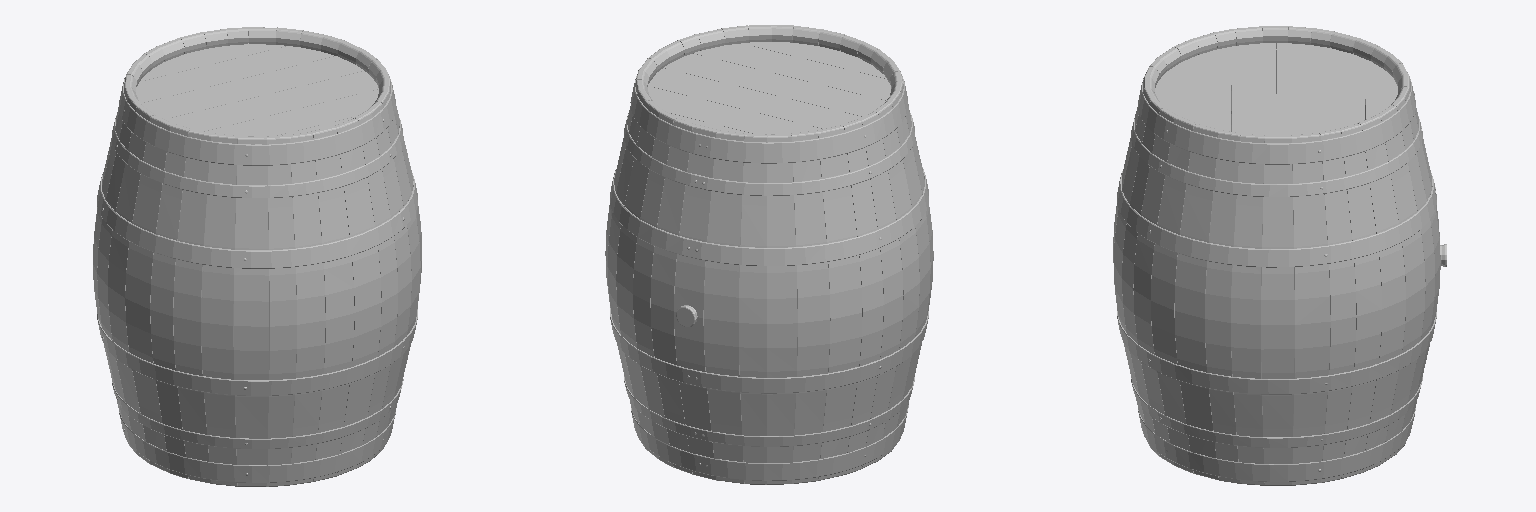
Rendered from barrel.obj.
3 views of the same model, side by side, from view 1: azimuth 30°, elevation 25°; view 2: azimuth 150°, elevation 25°; view 3: azimuth 270°, elevation 25° (orthographic).
Parts seen in each view (by area): view 1: wine_barrel_01_Plane.006, wine_barrel_01_Lid_DiameterSmall.012; view 2: wine_barrel_01_Plane.006, wine_barrel_01_Lid_DiameterSmall.012; view 3: wine_barrel_01_Plane.006, wine_barrel_01_Lid_DiameterSmall.012.
Boxes of the visible parts, <box> form: wine_barrel_01_Plane.006: <box>93,27,421,486</box>; wine_barrel_01_Lid_DiameterSmall.012: <box>136,43,378,136</box>; wine_barrel_01_Plane.006: <box>605,25,933,484</box>; wine_barrel_01_Lid_DiameterSmall.012: <box>648,42,890,134</box>; wine_barrel_01_Plane.006: <box>1113,26,1440,485</box>; wine_barrel_01_Lid_DiameterSmall.012: <box>1155,43,1397,134</box>.
Size of the model in its own units: 0.7419 by 0.8713 by 0.756.